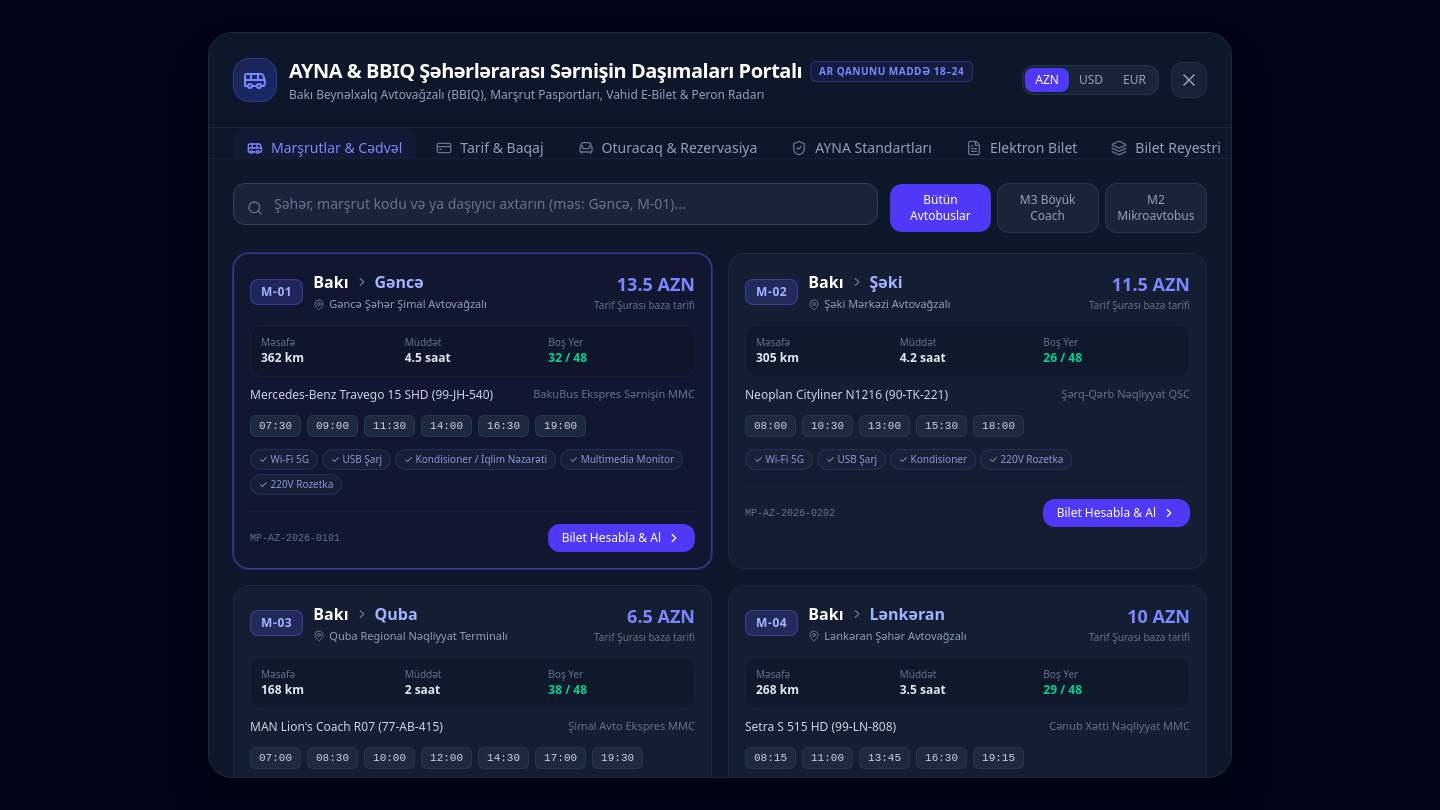
IntercityBusModal Component › selects a route from the routes tab and navigates to calculator
Click the button with test id "select-route-btn-route-baku-sheki" at [1116, 513], box [1043, 499, 1190, 527]
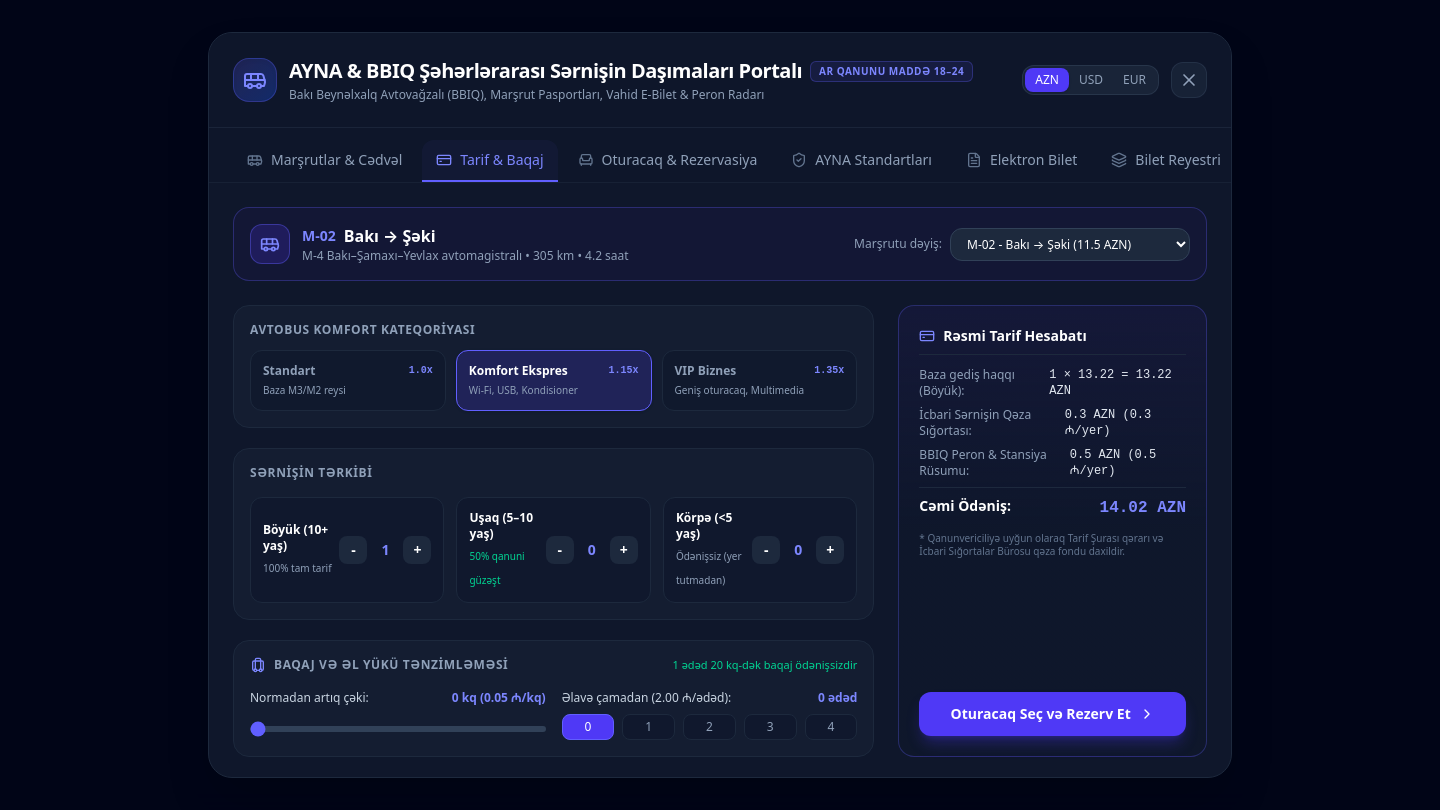
Expected: the element with test id "calculator-tab-content" is shown, [233, 207, 1207, 757]
Expected: the heading "Bakı → Şəki" is shown, [344, 224, 436, 248]
